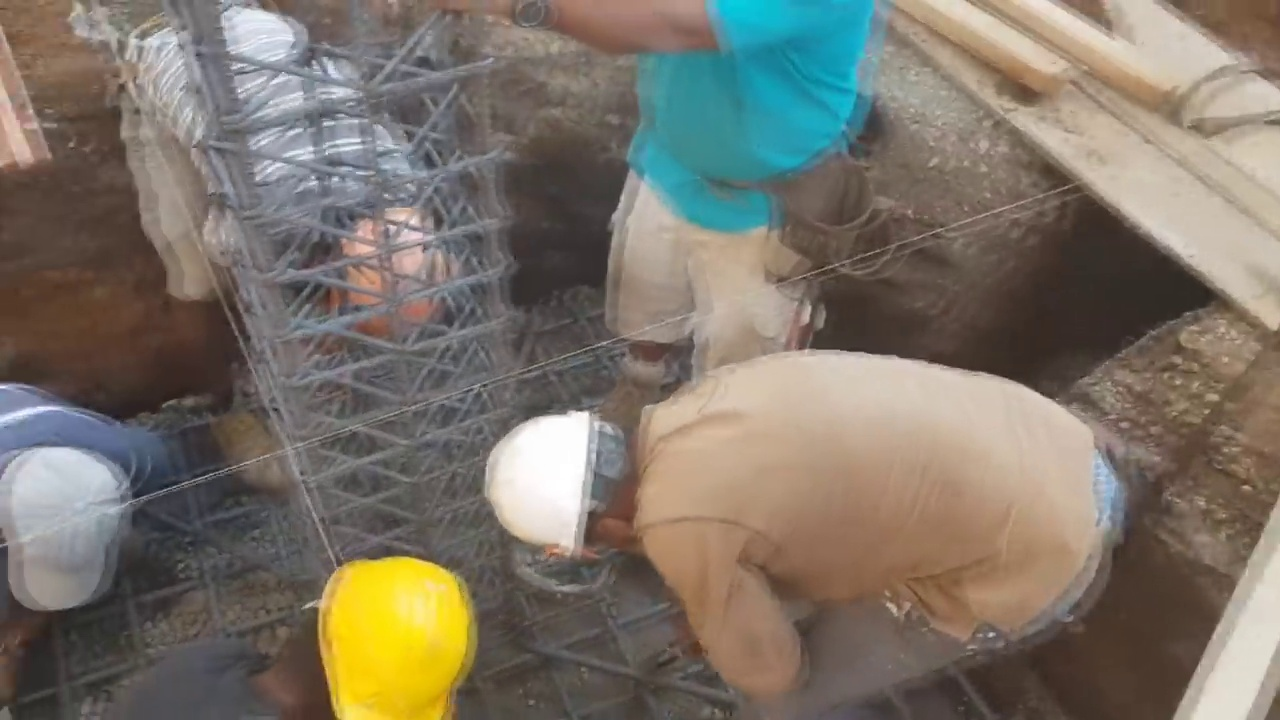helmet: (306, 561, 484, 707), (488, 406, 619, 579), (343, 206, 441, 342)
helmet-off: (2, 443, 136, 614)
helmet-on: (234, 554, 487, 717), (488, 387, 660, 580), (304, 185, 444, 346)
person: (480, 353, 1120, 716), (97, 0, 450, 483), (594, 0, 892, 430), (100, 544, 487, 719), (0, 374, 164, 712)
